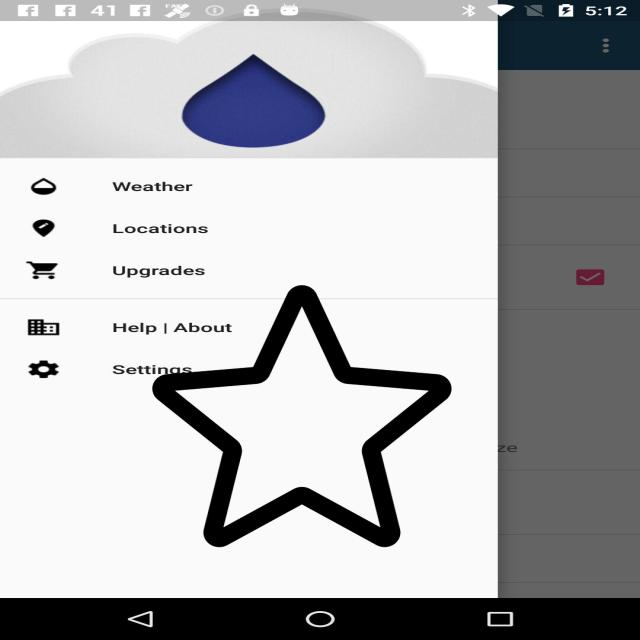forced continuity: (152, 279, 452, 553)
